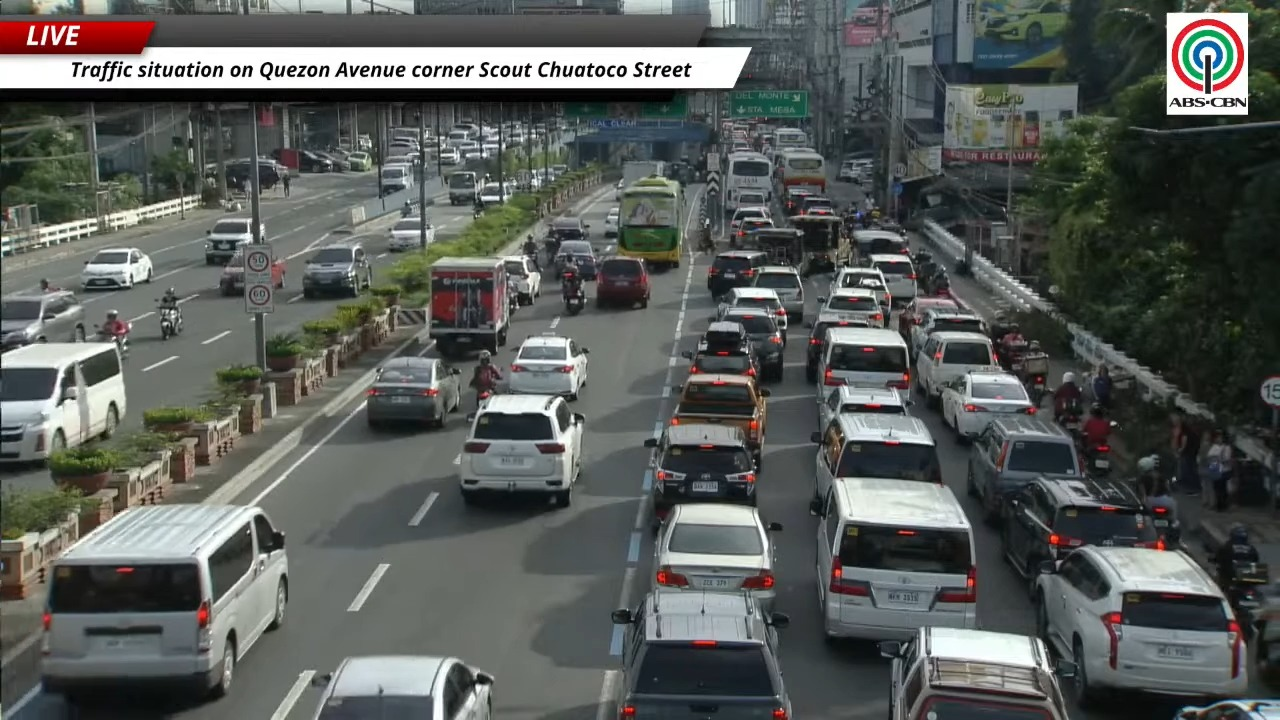bus: (617, 176, 684, 267), (724, 153, 772, 215), (779, 151, 826, 193), (771, 128, 808, 151)
car: (40, 504, 290, 715), (1035, 545, 1248, 707), (810, 473, 977, 640), (611, 588, 791, 719), (879, 627, 1074, 719), (1000, 478, 1165, 583), (458, 394, 585, 507), (654, 503, 781, 611), (967, 414, 1082, 521), (644, 422, 757, 528), (315, 655, 493, 719), (811, 414, 941, 498), (366, 356, 460, 428), (940, 370, 1037, 438), (915, 331, 1000, 407), (817, 326, 910, 389), (508, 333, 588, 399), (712, 307, 784, 380), (0, 290, 84, 349), (806, 313, 869, 382), (716, 286, 787, 344), (982, 0, 1067, 47), (302, 242, 372, 298), (817, 385, 910, 427), (907, 307, 988, 354), (81, 248, 153, 289), (753, 265, 803, 324), (899, 296, 961, 342), (707, 250, 767, 297), (832, 266, 893, 312), (596, 257, 650, 307), (818, 287, 885, 327), (682, 342, 759, 376), (869, 254, 916, 303), (204, 218, 254, 264), (1176, 698, 1279, 719), (504, 255, 541, 304), (853, 230, 910, 261), (388, 215, 434, 251), (554, 249, 598, 280), (730, 218, 773, 246), (729, 206, 770, 232), (548, 216, 589, 241), (297, 150, 334, 172), (783, 188, 811, 216), (312, 151, 349, 171), (479, 182, 508, 205), (800, 195, 833, 214), (559, 238, 593, 255), (346, 152, 372, 171), (737, 189, 767, 205), (603, 207, 618, 237), (837, 160, 858, 181), (271, 258, 285, 288), (438, 147, 461, 165), (482, 139, 501, 157), (615, 179, 625, 200)
motorcycle: (1224, 562, 1269, 639), (1253, 593, 1279, 688), (1147, 504, 1181, 549), (94, 322, 132, 356), (998, 340, 1028, 373), (1082, 444, 1110, 478), (1057, 403, 1082, 441), (158, 306, 181, 339), (564, 286, 586, 316), (1028, 374, 1046, 406), (507, 282, 519, 313), (473, 205, 484, 219)
truck: (670, 374, 769, 467), (428, 257, 510, 356), (622, 160, 665, 188), (447, 171, 479, 205)
